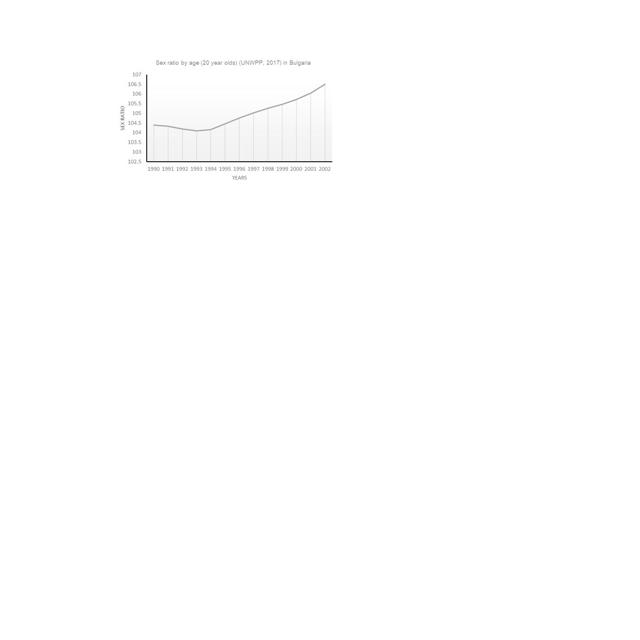Graph: (114, 54, 336, 185)
